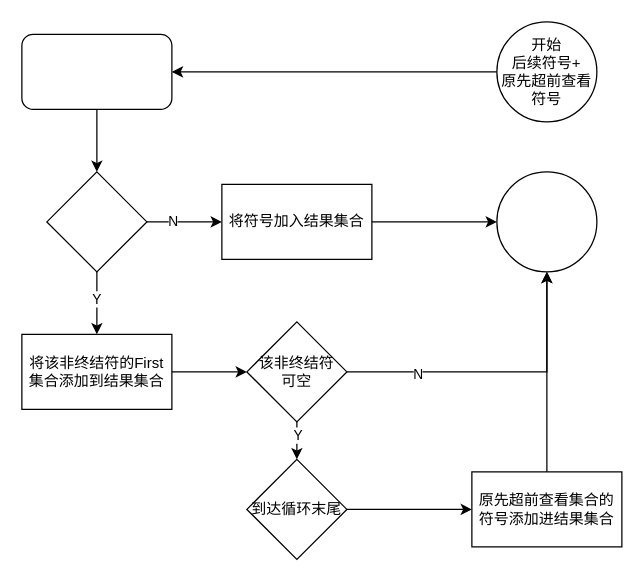
The diagram is 644 pixels wide and 581 high, and some of its shapes have lost their labels. The box of each missing label's shape, as (x1, y1, x2, y2) in pixels:
是非终结符: (46, 171, 147, 272)
结束: (496, 171, 597, 272)
遍历后续符号: (21, 33, 172, 109)
